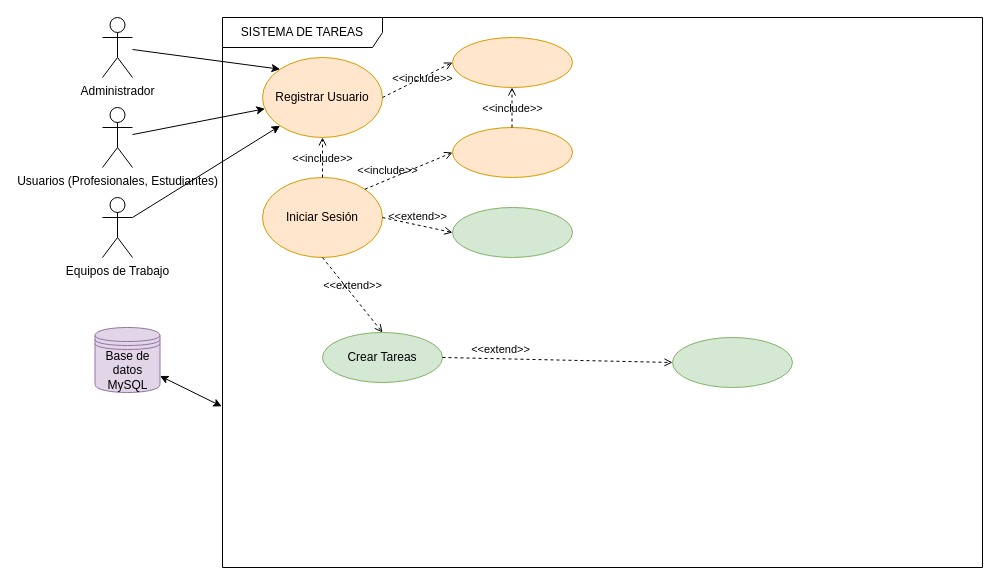
This 1000x585 diagram has some shape labels left out. The box of each missing label's shape, as (x1, y1, x2, y2) in pixels:
Actualizar Contraseña: (452, 206, 572, 258)
Actualizar Tarea: (672, 336, 792, 388)
Crear Contraseña: (452, 126, 572, 178)
Enviar Corre Cuenta: (452, 36, 572, 88)
